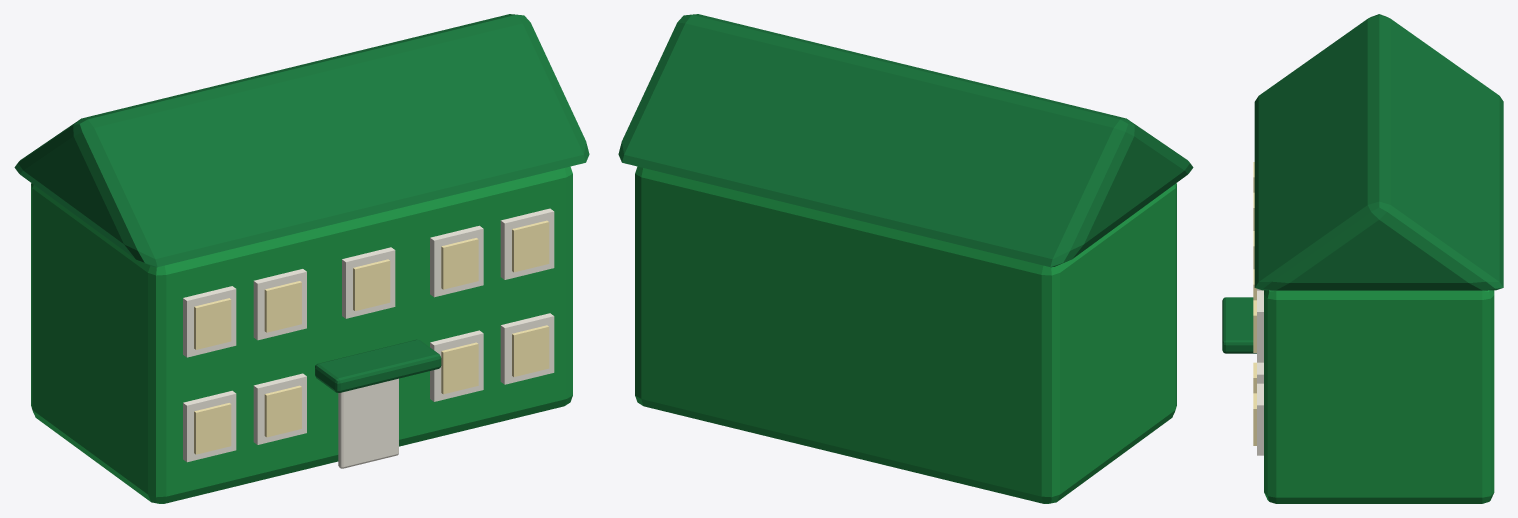
Rendered from buildings.glb.
The picture shows the model from 3 angles, left to right: view 1: azimuth 30°, elevation 25°; view 2: azimuth 150°, elevation 25°; view 3: azimuth 270°, elevation 25°; orthographic projection. The views are drawn at different scales.
Parts seen in each view (by area): view 1: Hotel; view 2: Hotel; view 3: Hotel.
Part boxes in pixels (x1=…): Hotel: x1=14, y1=14, x2=589, y2=503; Hotel: x1=618, y1=14, x2=1193, y2=503; Hotel: x1=1222, y1=14, x2=1503, y2=503.
Bounding box in the file's own units: 0.388 × 0.2808 × 0.2322.
